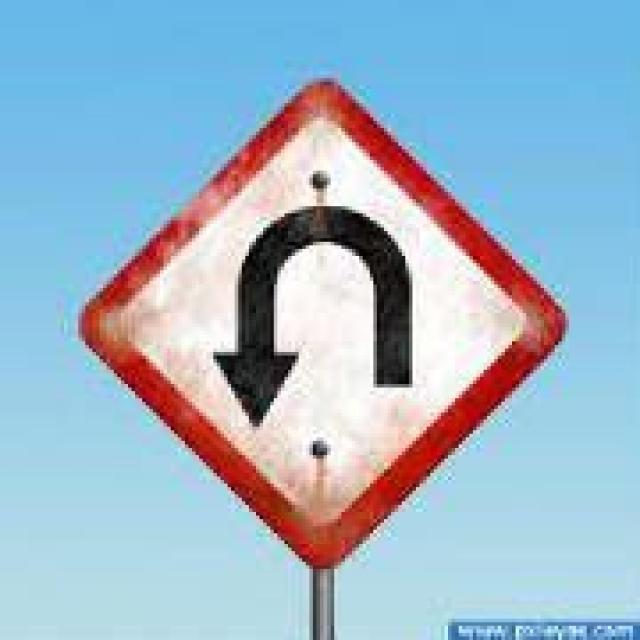u turn: (74, 74, 558, 575)
